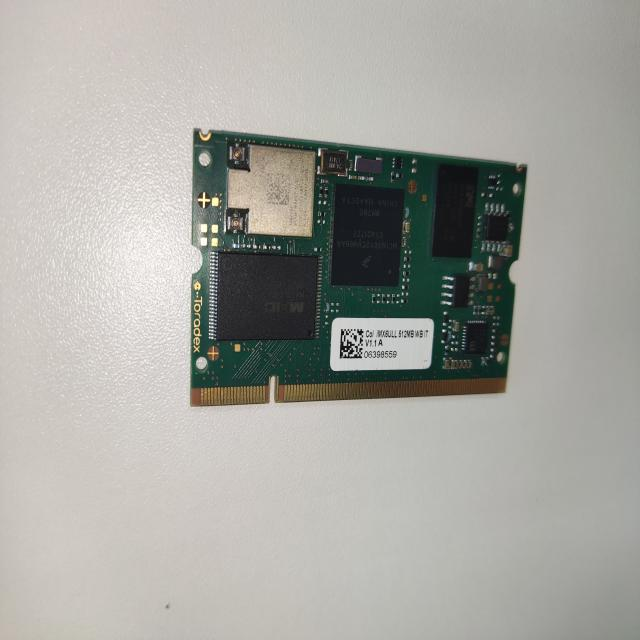som: (184, 114, 533, 419)
